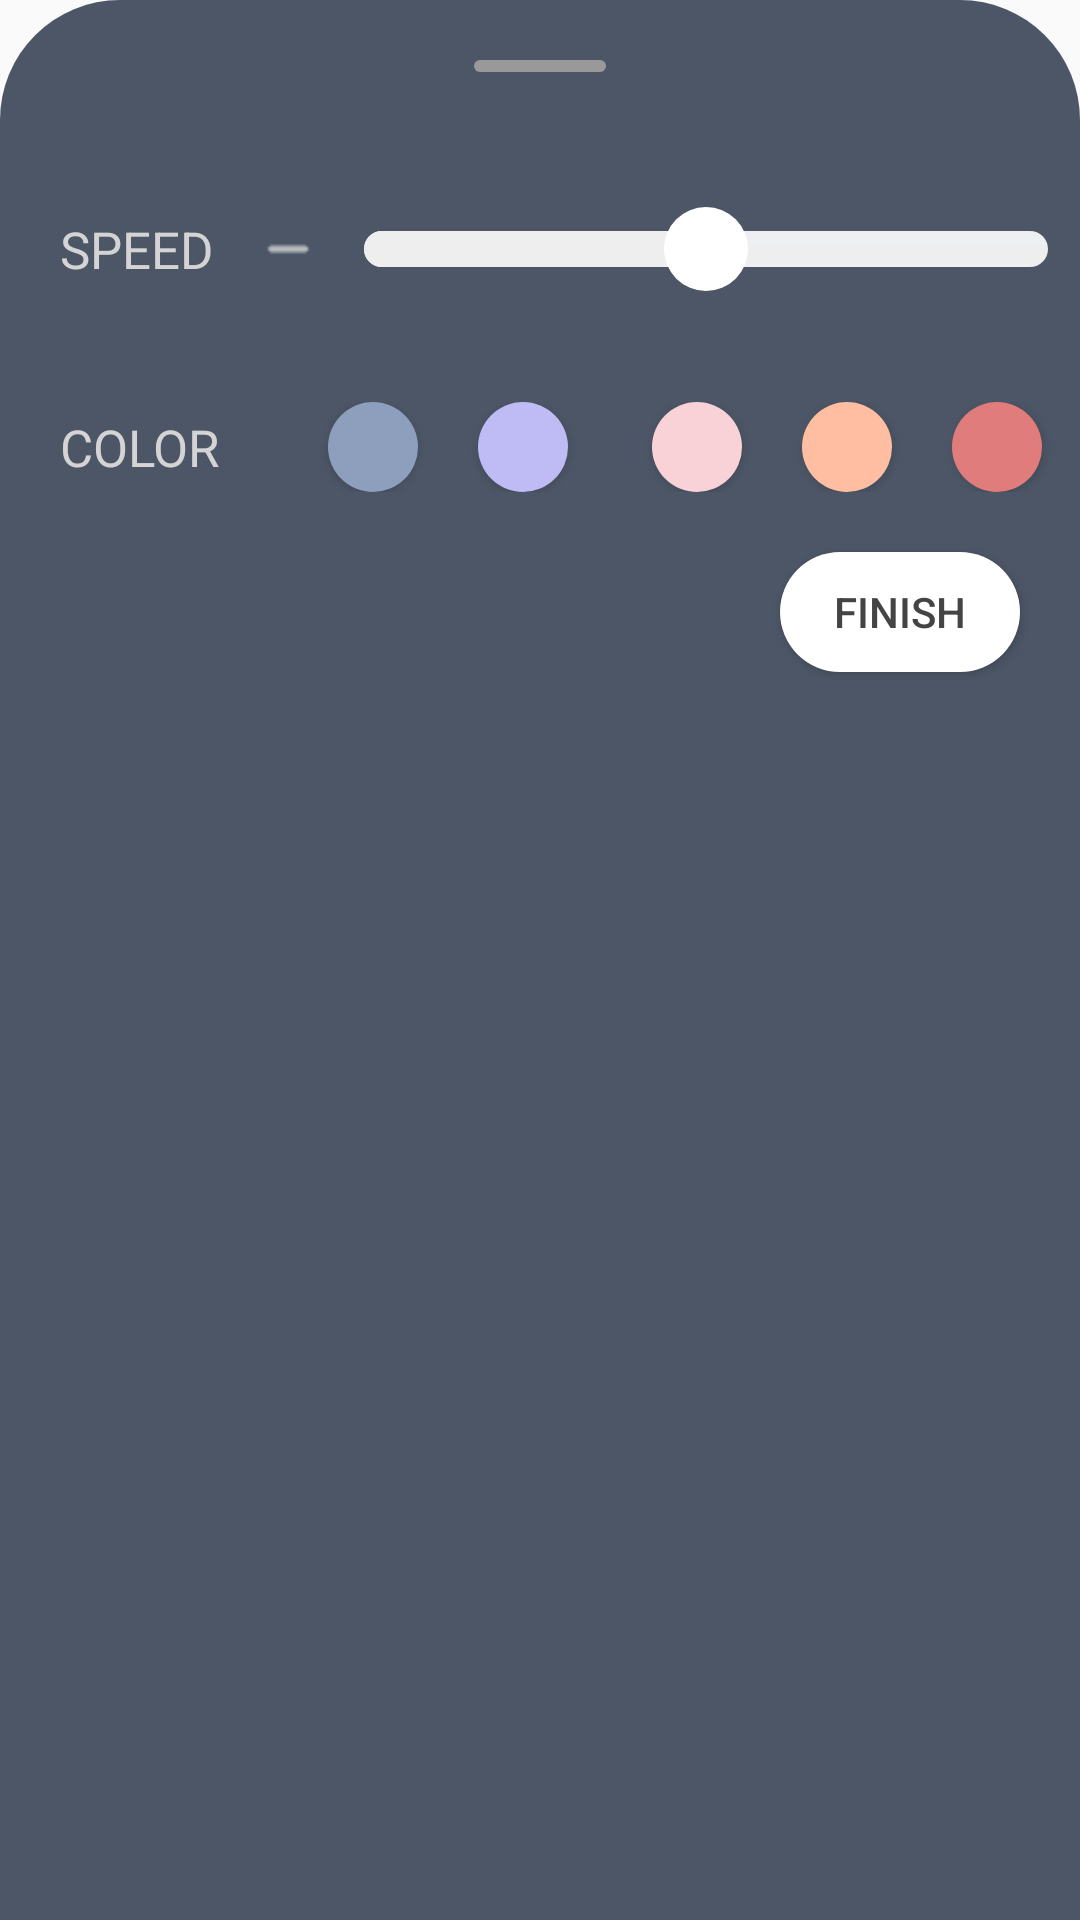

Icons on this 1080 x 1920 Android screen, each with its box as (x1, y1, x2, y2):
jianshao: (267, 244, 309, 254)
